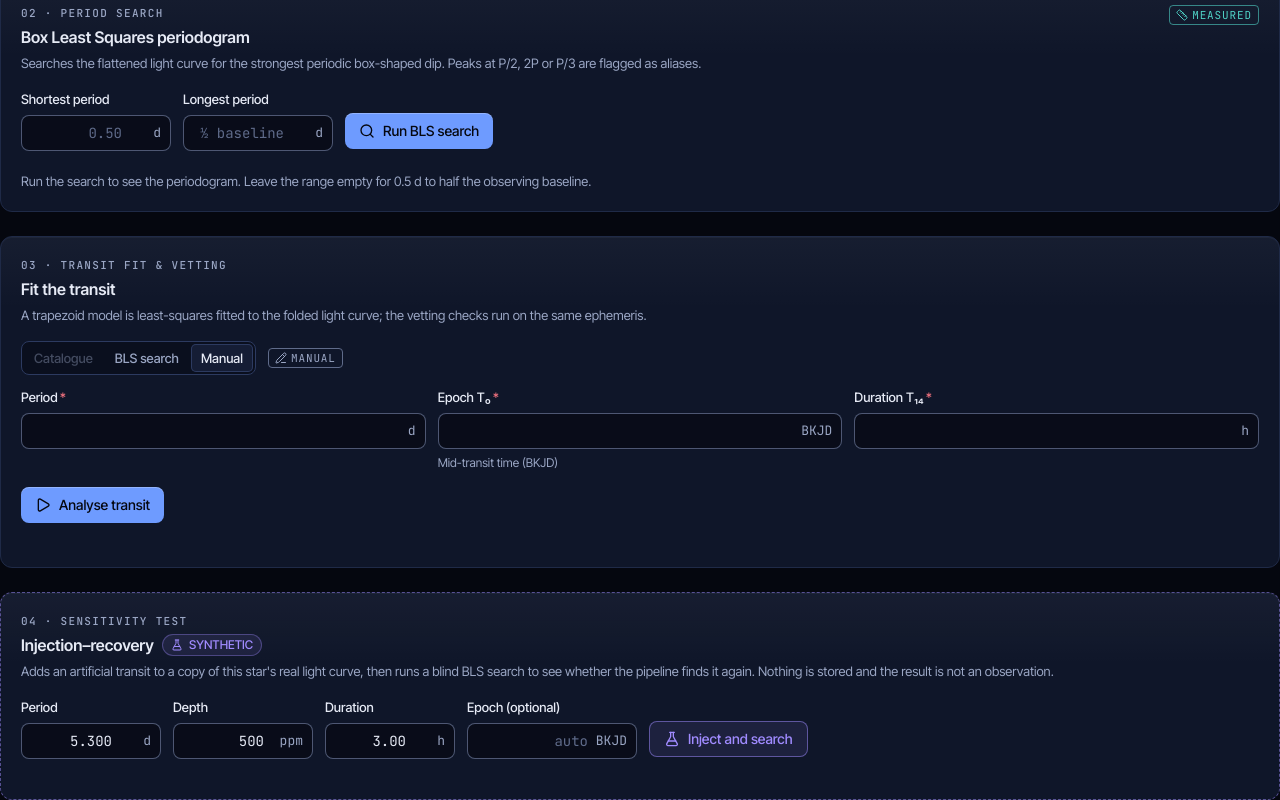
Test case: Transit Analysis › validates a manual ephemeris before fitting
(page scrolled)
Click the button "Analyse transit" at (93, 505), box [21,487,164,523]
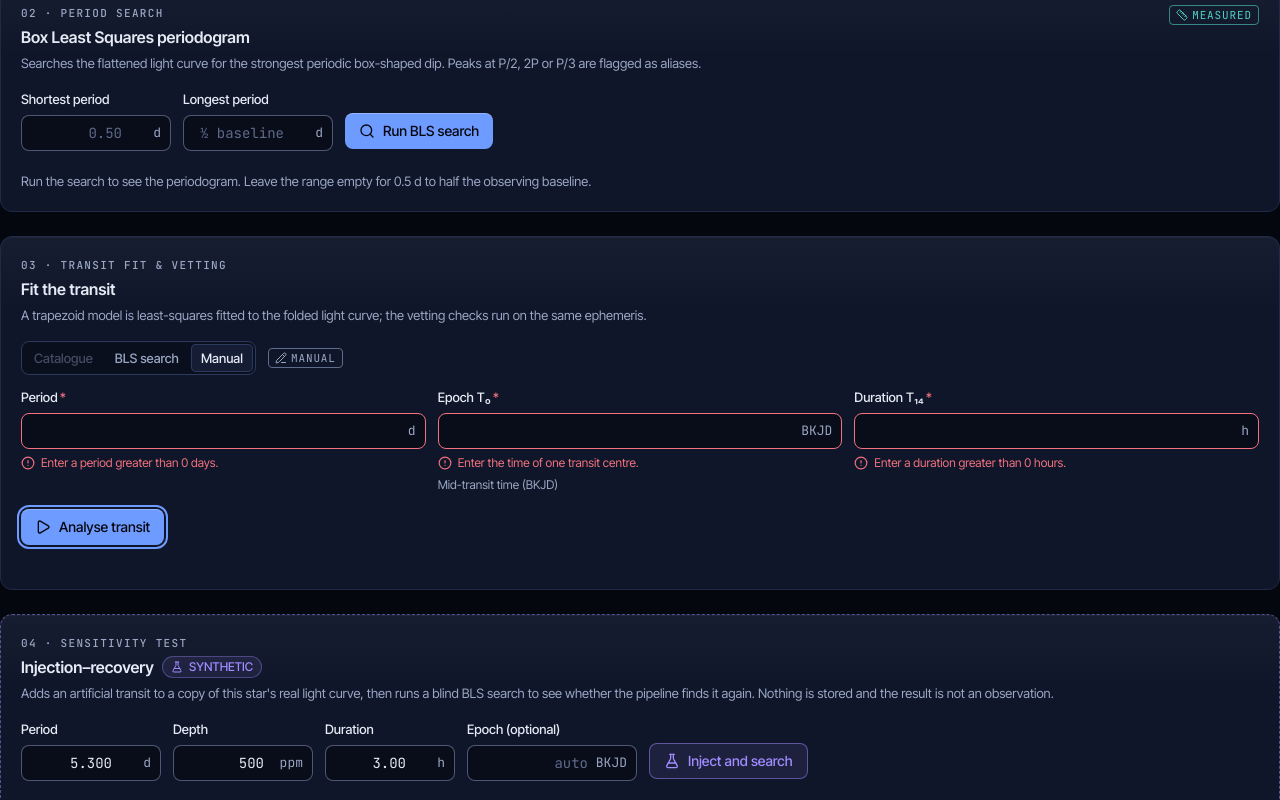
Check: the text "Enter a period greater than 0 days." is shown, box [41,455,218,471]
